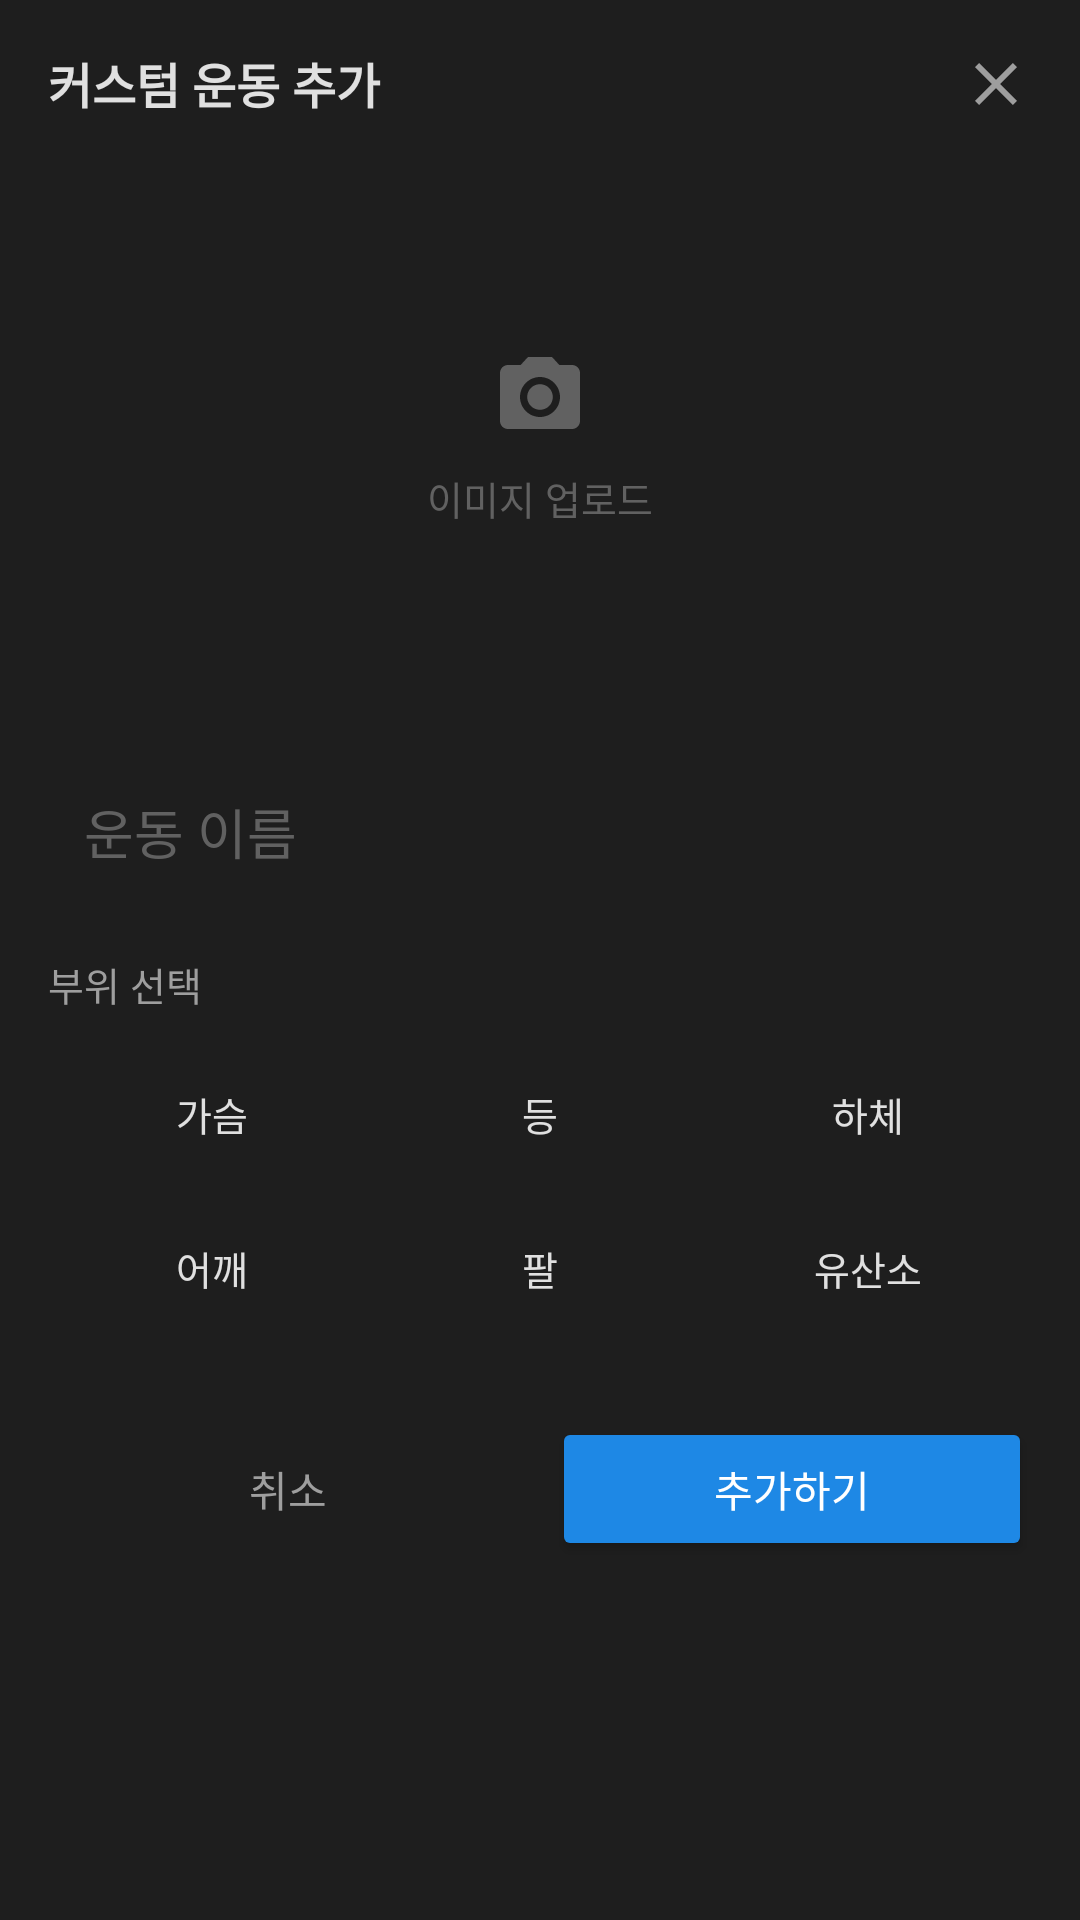

Icon bounding boxes for this 1080×1920 phone screenshot, format (x1, y1, x2, y2):
camera: (500, 357, 580, 429)
close: (975, 63, 1017, 105)
